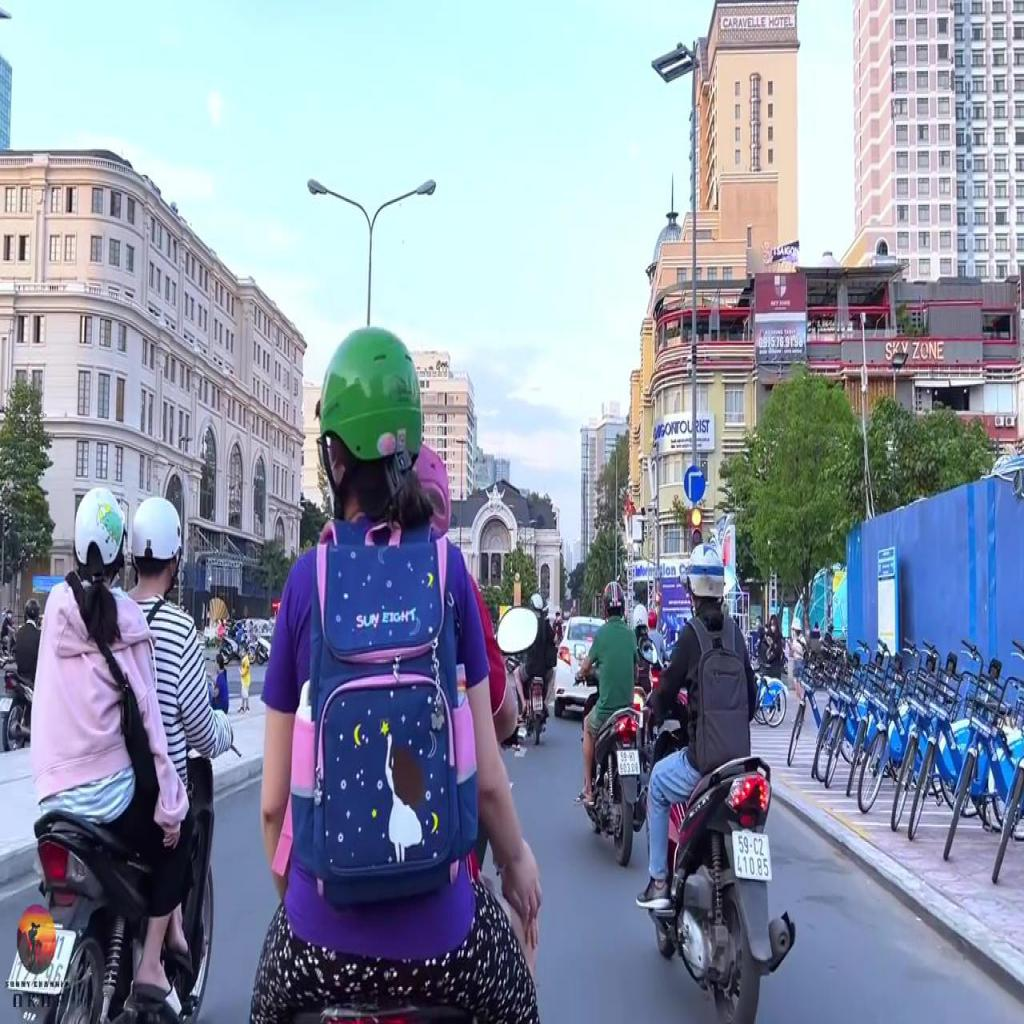khac: (685, 461, 706, 502)
